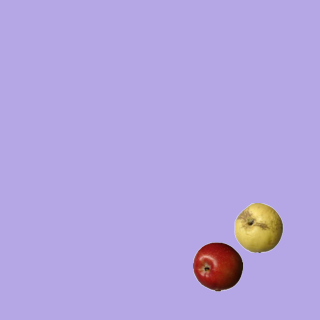Apple Braeburn: (192, 241, 242, 291)
Apple Golden 1: (233, 202, 283, 252)
